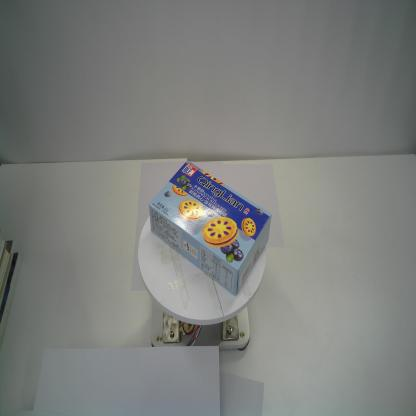Dessert: (147, 160, 272, 298)
